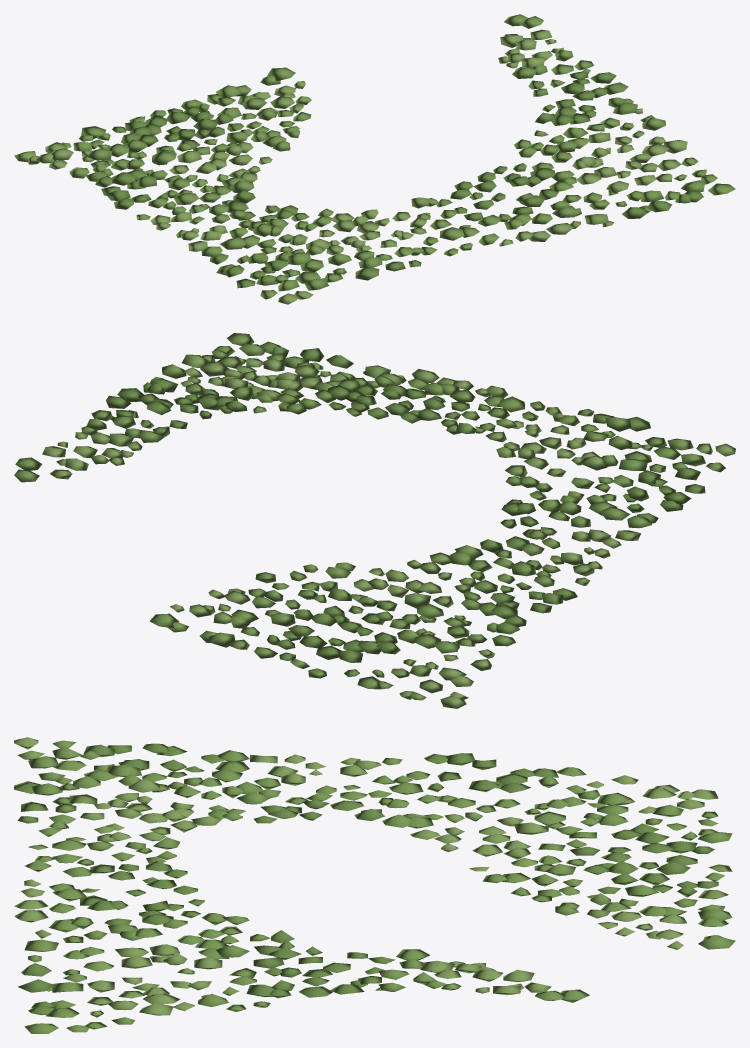
File: canopy-1-4-3.glb
3 views of the same model, one above another, from view 1: azimuth 30°, elevation 25°; view 2: azimuth 150°, elevation 25°; view 3: azimuth 270°, elevation 25° (orthographic). The views are drawn at different scales.
Bounding box in the file's own units: 518 × 85 × 520.
Materials: 1 (1 with a texture image).
